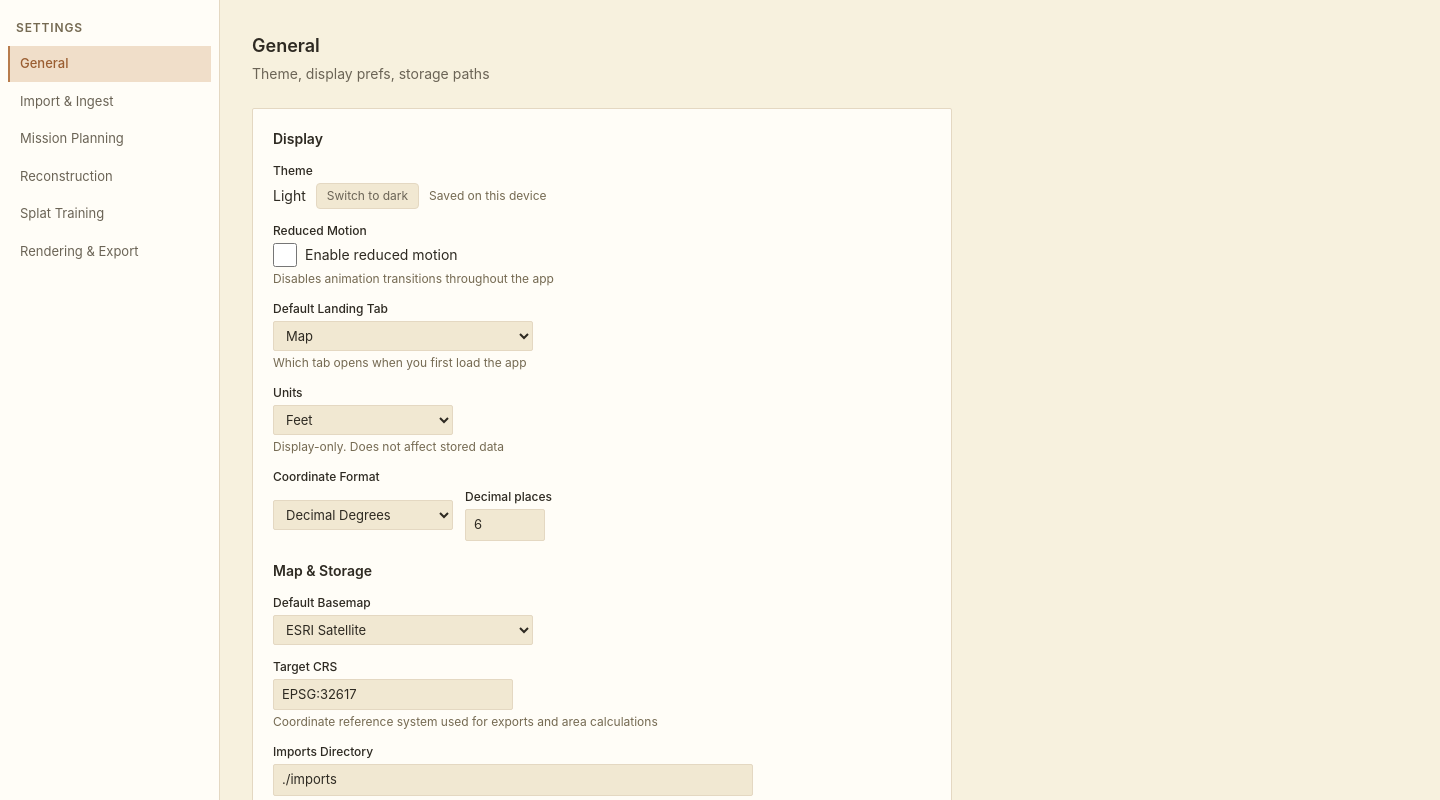
Test: renders the selected settings form and updates the deep link when changing sections
The width and height of the screenshot is (1440, 800).
Check: the heading "General" is shown, box [252,35,320,56]
Click the button "Import & Ingest" at (110, 101), box [8,84,211,119]
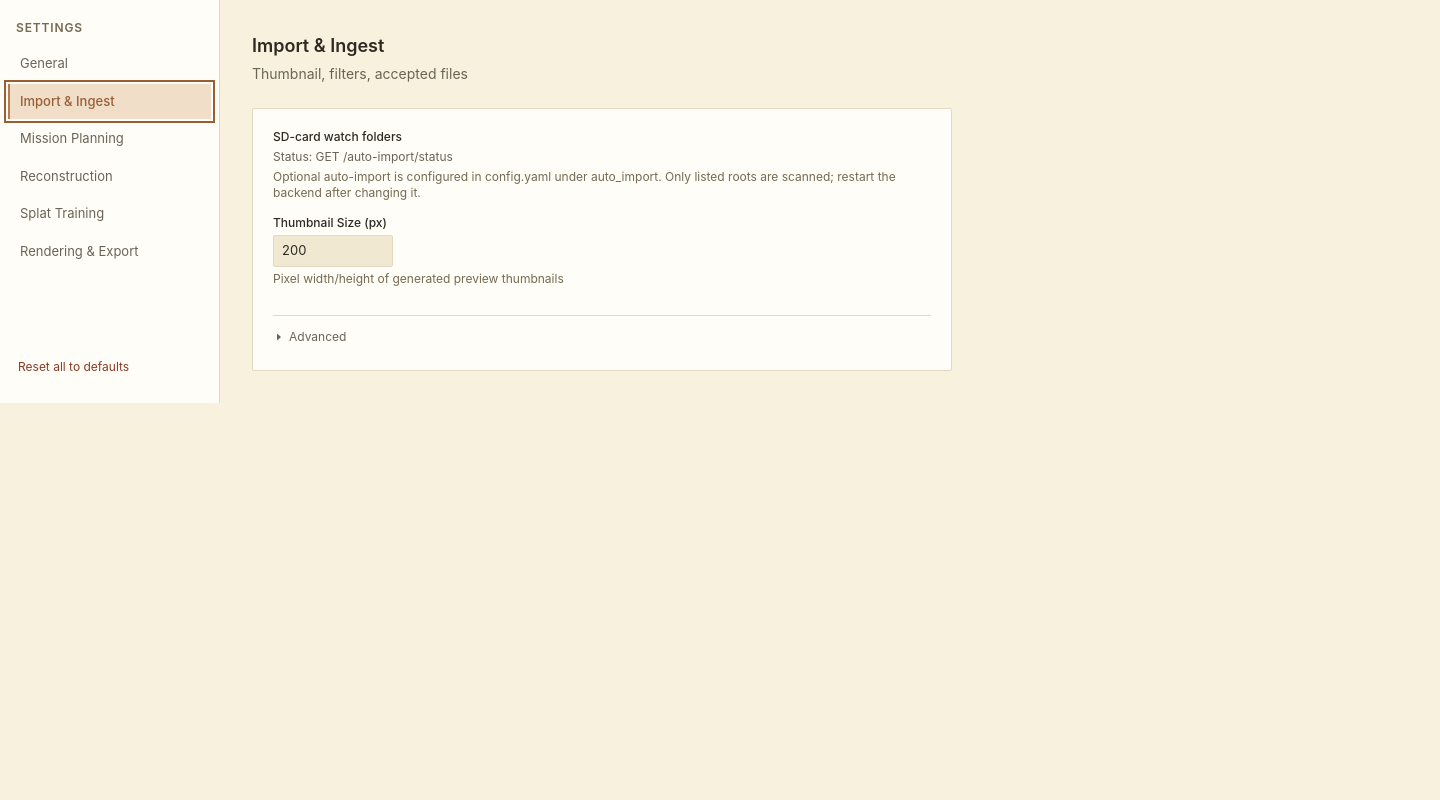
Check: the heading "Import & Ingest" is shown, box [252,35,384,56]
Click the button "Advanced" at (310, 336), box [273,324,346,350]
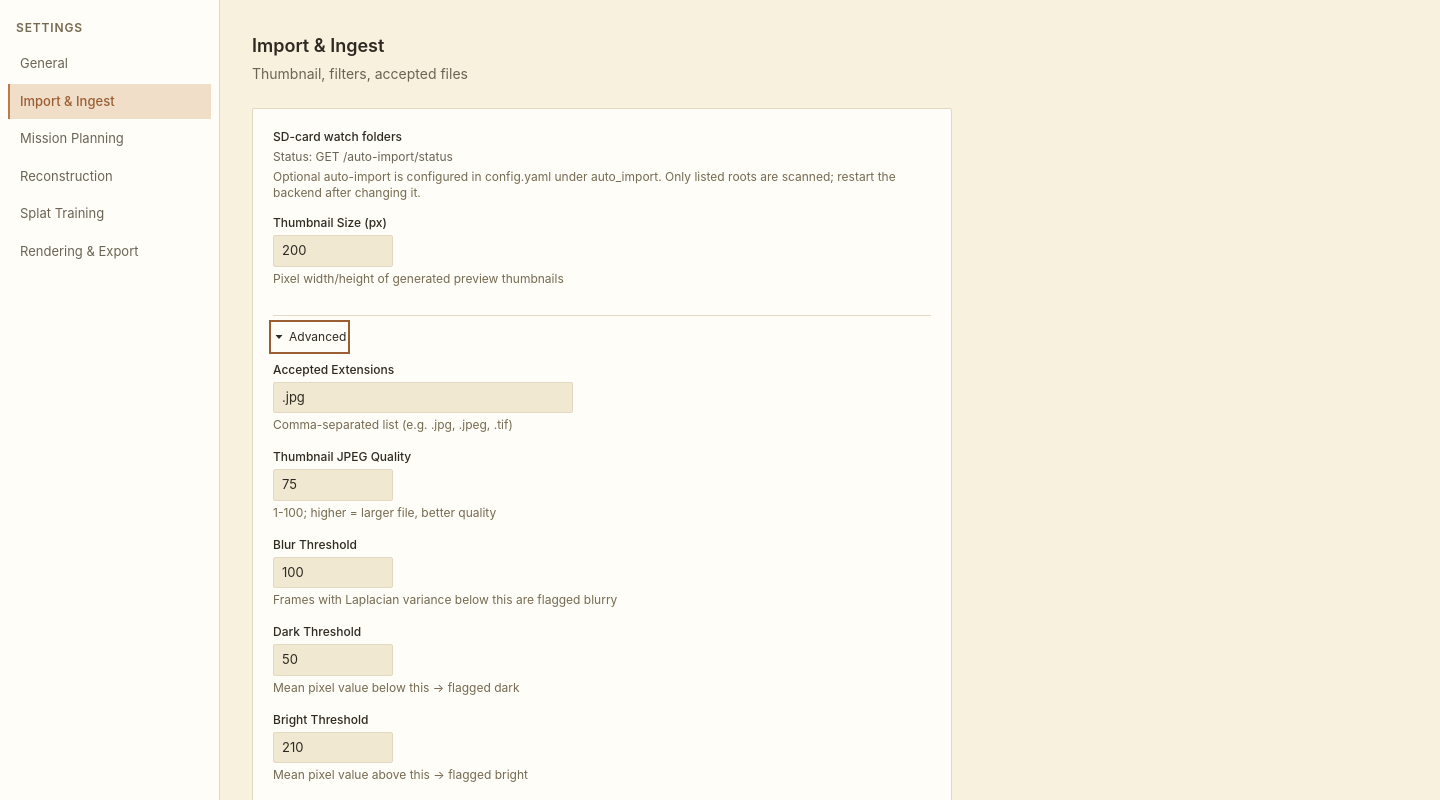
Check: the text "Accepted Extensions" is shown, box [273,362,394,376]
Click the button "Advanced" at (310, 336), box [273,324,346,350]
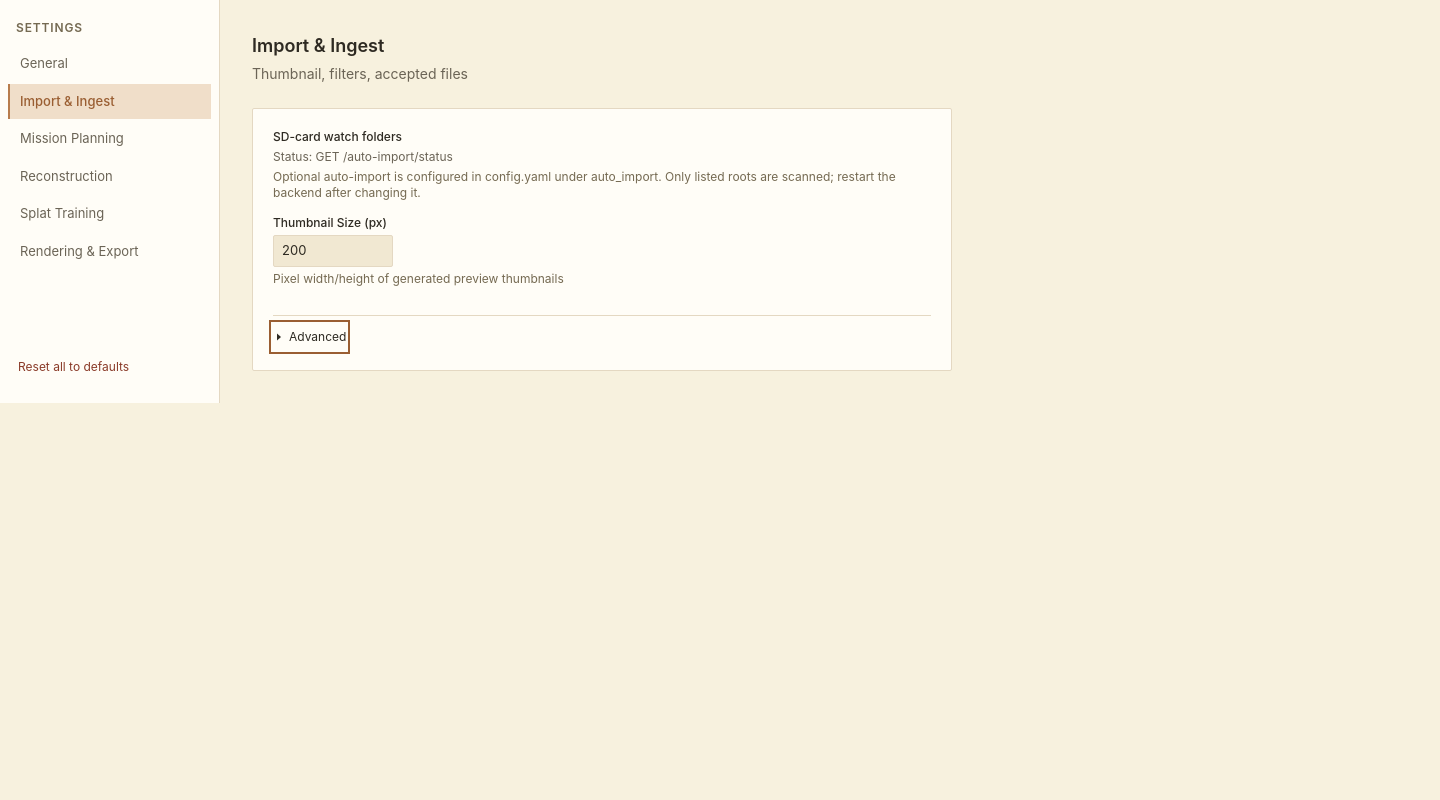
Check: the text "Accepted Extensions" is gone
